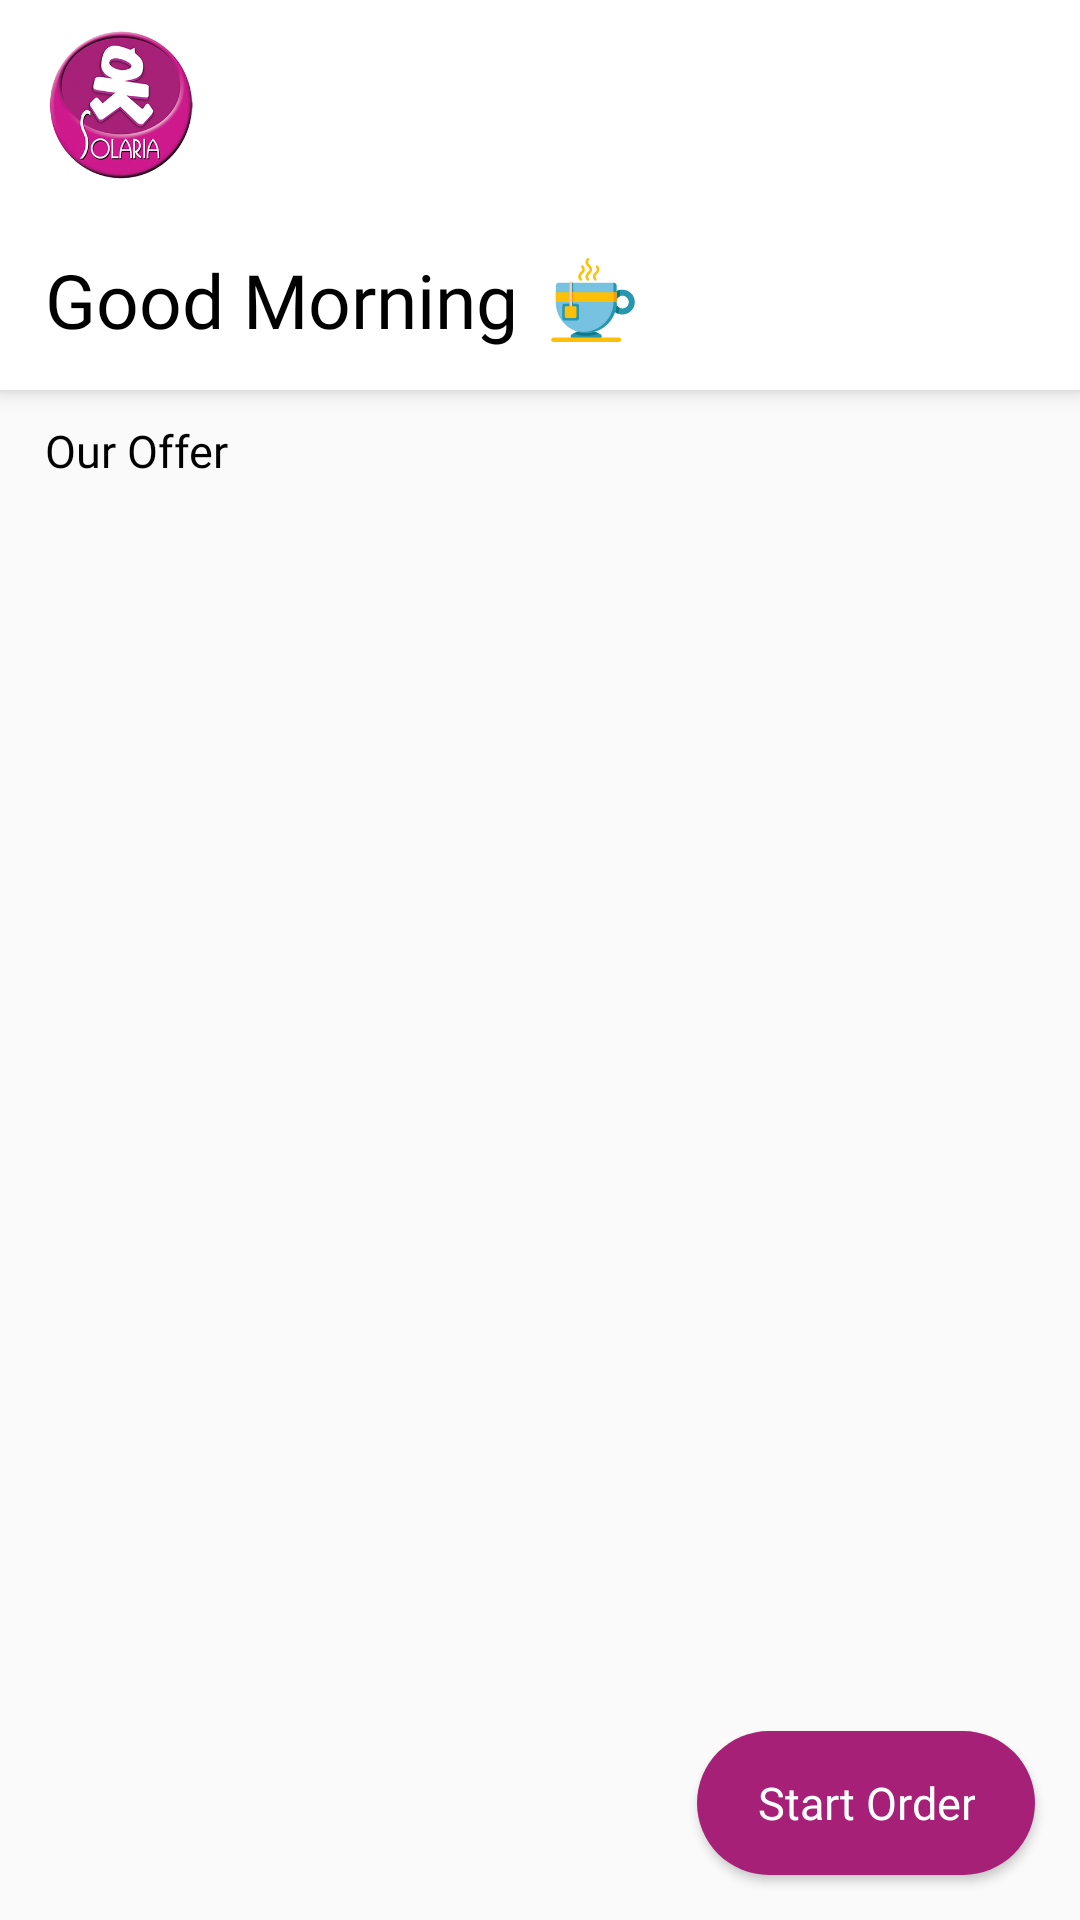

Point at icon controls on the screen. Image size 1080 × 1920, points as (x,y).
tea: (593,300)
